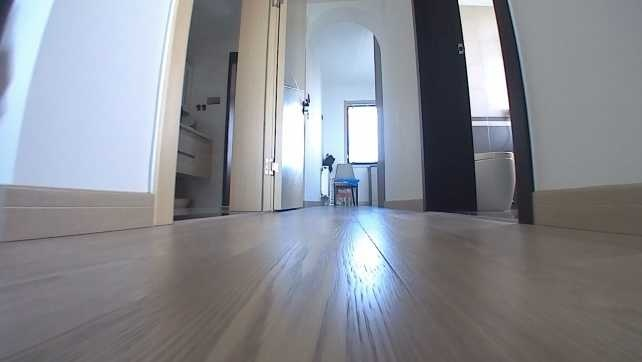door_anno: (231, 0, 310, 209)
toilet: (472, 145, 514, 210)
